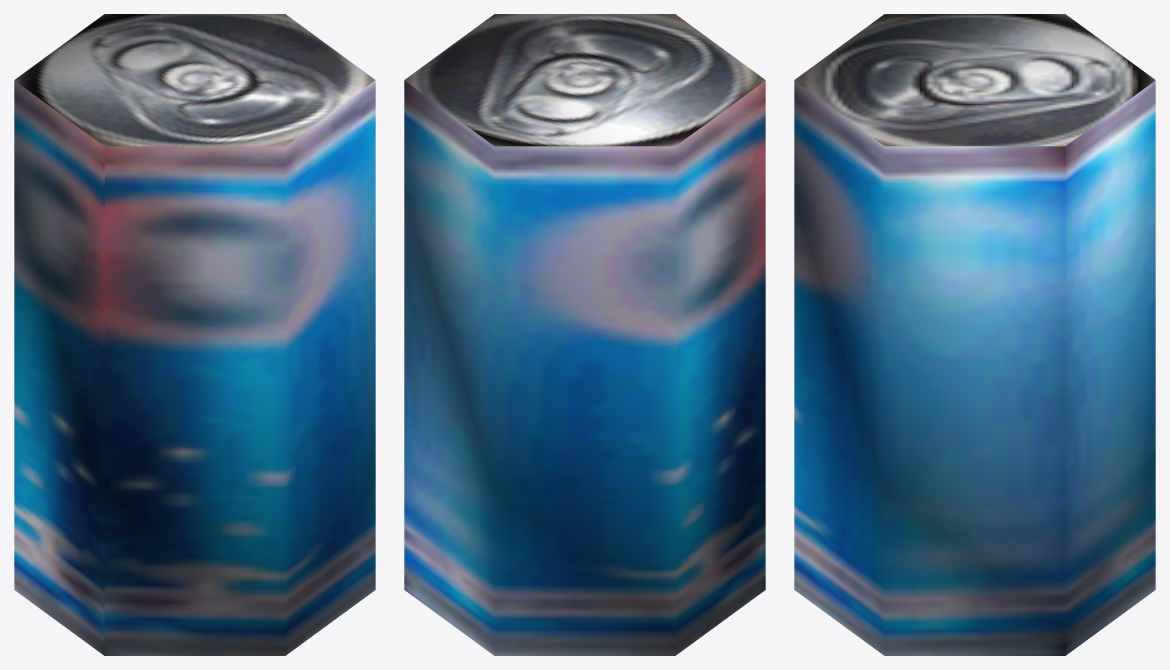
File: can_5.glb
3 renders of one model, left to right at view 1: azimuth 30°, elevation 25°; view 2: azimuth 150°, elevation 25°; view 3: azimuth 270°, elevation 25°, orthographic.
Visible parts, largest first — view 1: Can_5; view 2: Can_5; view 3: Can_5.
Boxes of the visible parts, <box> form: Can_5: <box>14,14,375,655</box>; Can_5: <box>404,14,765,655</box>; Can_5: <box>794,14,1155,655</box>.
Size of the model in its own units: 0.1956 by 0.3512 by 0.2259.
1 material, 1 textured.
